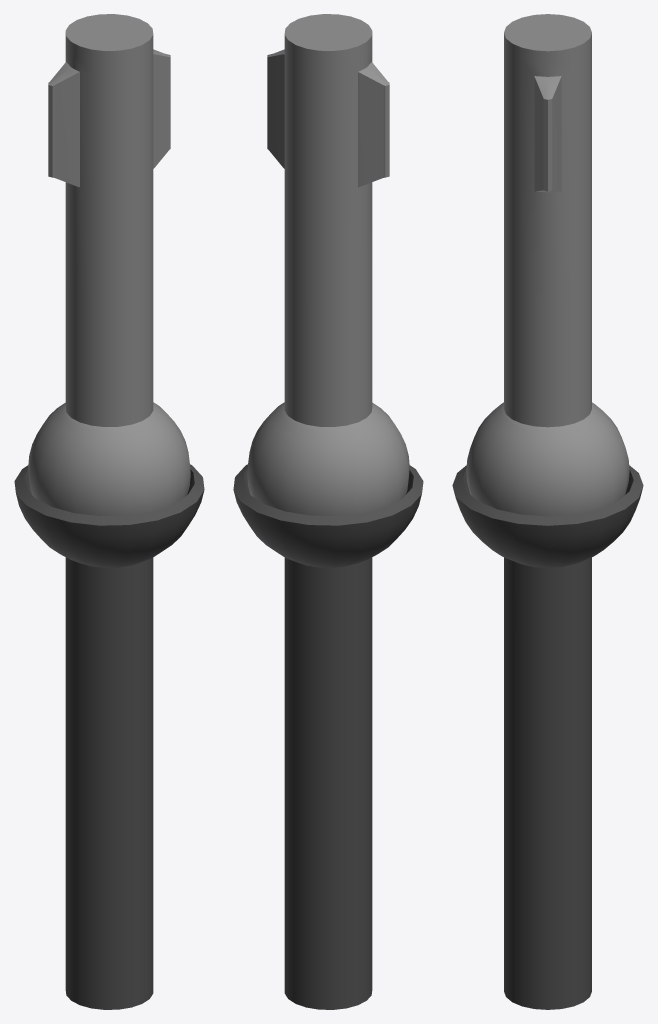
The model's file is Spherical.gltf.
3 views of the same model, side by side, from view 1: azimuth 30°, elevation 25°; view 2: azimuth 150°, elevation 25°; view 3: azimuth 270°, elevation 25° (orthographic).
Visible parts, largest first — view 1: Spherical_Inner_v2:pSphere8group1, Spherical_outer:pSphere6group1; view 2: Spherical_Inner_v2:pSphere8group1, Spherical_outer:pSphere6group1; view 3: Spherical_Inner_v2:pSphere8group1, Spherical_outer:pSphere6group1.
Boxes of the visible parts, bbox=[...] form: Spherical_Inner_v2:pSphere8group1: bbox=[28, 14, 190, 516]; Spherical_outer:pSphere6group1: bbox=[14, 464, 204, 1009]; Spherical_Inner_v2:pSphere8group1: bbox=[247, 14, 409, 516]; Spherical_outer:pSphere6group1: bbox=[233, 464, 423, 1009]; Spherical_Inner_v2:pSphere8group1: bbox=[466, 14, 629, 516]; Spherical_outer:pSphere6group1: bbox=[452, 465, 643, 1009].
Size of the model in its own units: 0.1861 by 1.03 by 0.1861.
Materials: 1 (1 with a texture image).
